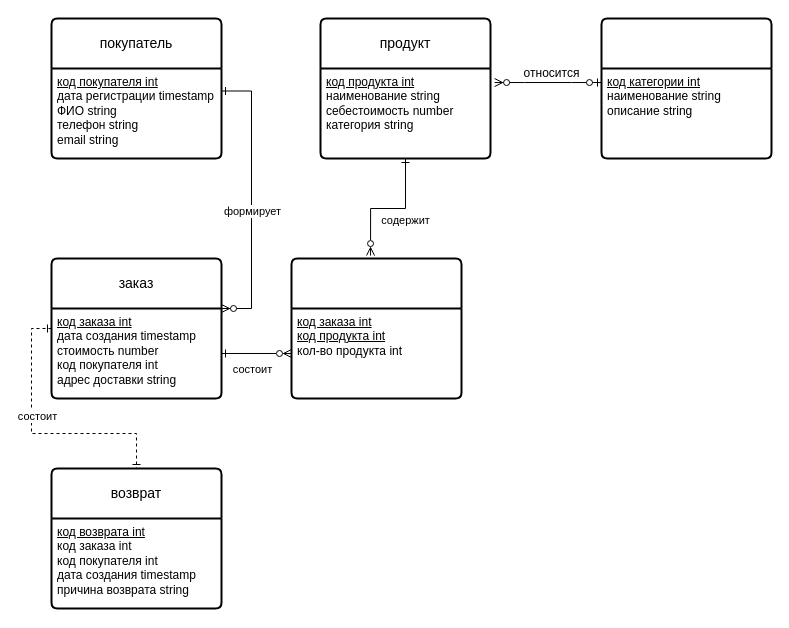
The diagram is 789 pixels wide and 628 high, and some of its shapes have lost their labels. The box of each missing label's shape, as (x1, y1, x2, y2) in pixels:
заказ-продукт: (290, 257, 462, 399)
категория продукта: (600, 17, 772, 159)
